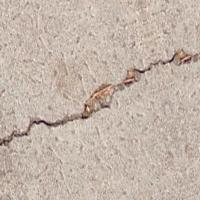crack: (1, 51, 199, 150)
